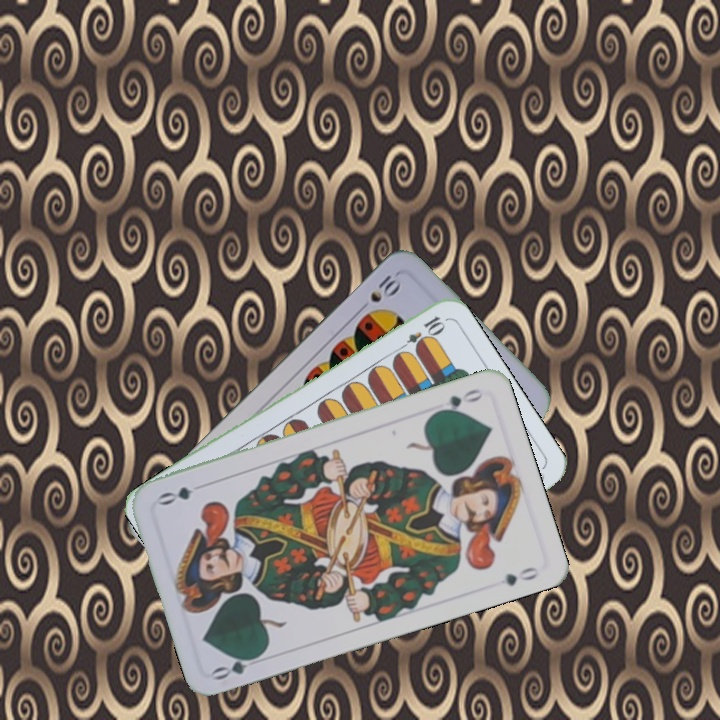E10: (394, 312, 447, 355)
GO: (209, 649, 267, 683), (430, 385, 486, 417)
S10: (355, 270, 404, 315)
